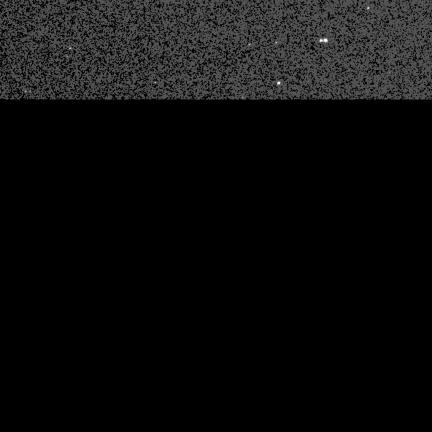blob: (320, 39, 323, 43), (324, 39, 327, 42), (278, 82, 281, 85), (368, 7, 370, 10)
